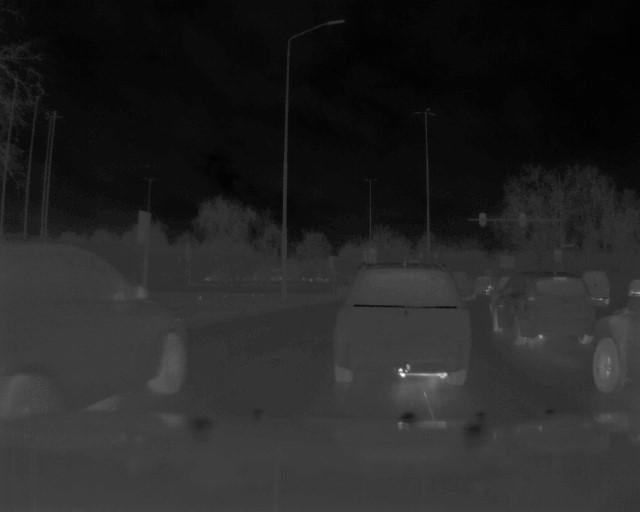car: (1, 240, 189, 406), (337, 260, 467, 391), (487, 259, 590, 352), (593, 278, 640, 396)
